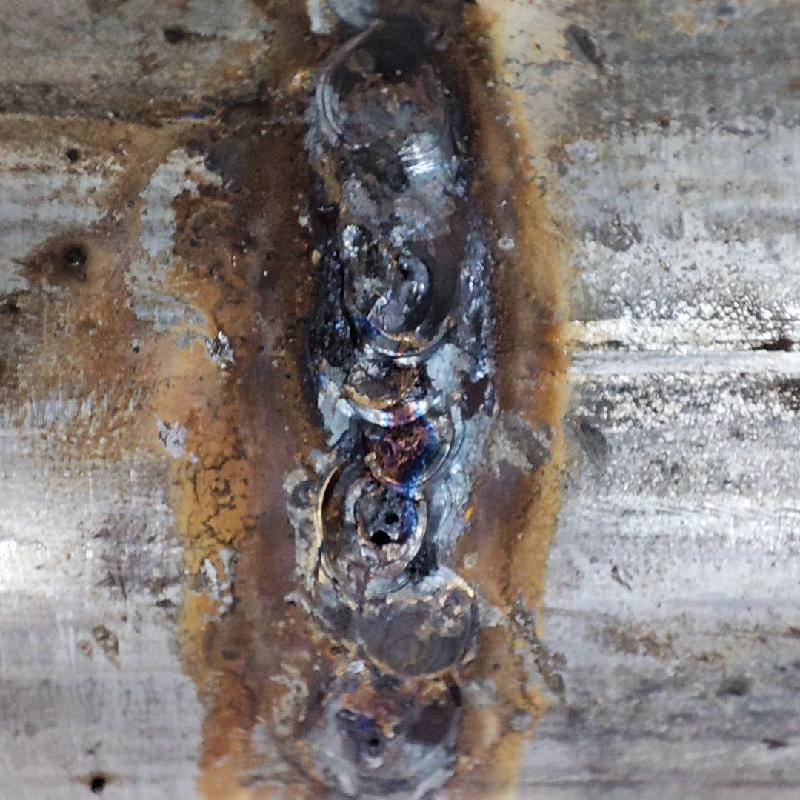Surface_pores: (351, 487, 425, 559), (351, 720, 402, 761)
